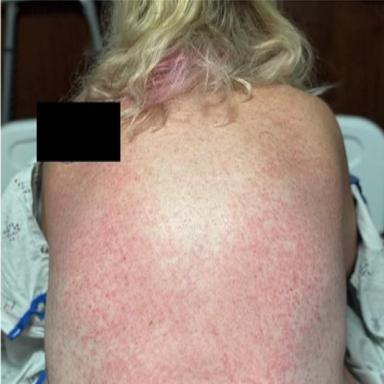Darier_s-Disease: (50, 119, 336, 384)
